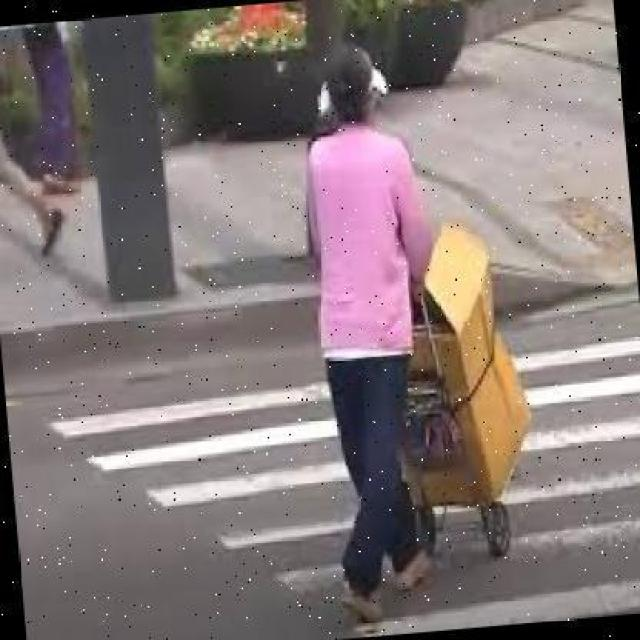-: (293, 40, 461, 622)
